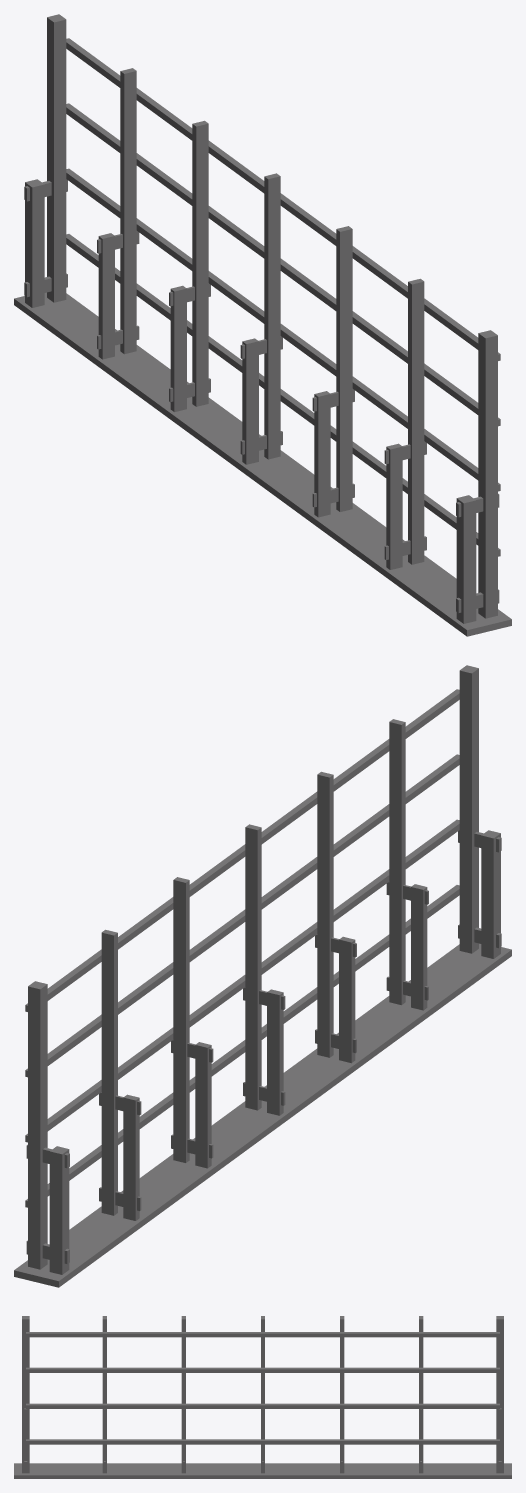
The model's file is SM_blibbloardStand_01a.gltf.
3 views of the same model, one above another, from view 1: azimuth 30°, elevation 25°; view 2: azimuth 150°, elevation 25°; view 3: azimuth 270°, elevation 25° (orthographic). The views are drawn at different scales.
Visible parts, largest first — view 1: SM_blibbloardStand_01a; view 2: SM_blibbloardStand_01a; view 3: SM_blibbloardStand_01a.
Boxes of the visible parts, bbox=[...] form: SM_blibbloardStand_01a: bbox=[14, 14, 511, 636]; SM_blibbloardStand_01a: bbox=[14, 665, 511, 1287]; SM_blibbloardStand_01a: bbox=[14, 1316, 511, 1478].
Size of the model in its own units: 0.36 by 2.2 by 6.3.
Materials: 1 (1 with a texture image).
